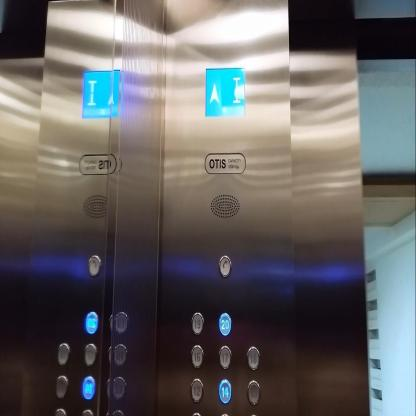12: (190, 378, 203, 403)
14: (218, 378, 232, 405)
15: (246, 378, 260, 404)
16: (190, 344, 204, 368)
17: (218, 344, 232, 369)
18: (246, 344, 260, 370)
19: (190, 310, 204, 335)
20: (218, 312, 231, 336)
call: (218, 253, 231, 278), (88, 254, 101, 277)
empty: (54, 374, 68, 398), (56, 342, 69, 366)
led: (204, 65, 247, 118), (80, 66, 122, 118)
unknown: (85, 309, 98, 335), (84, 341, 97, 366), (82, 376, 95, 400), (115, 312, 128, 332), (114, 344, 126, 365), (113, 377, 125, 398)
